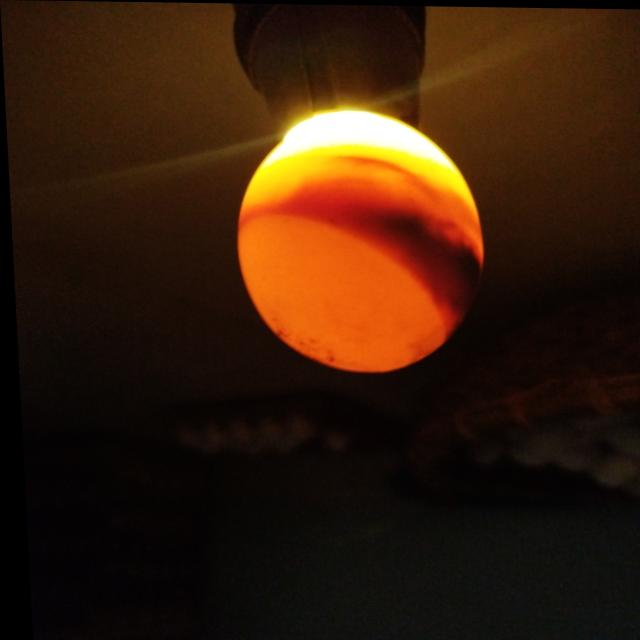Area Infectada: (384, 211, 479, 337)
